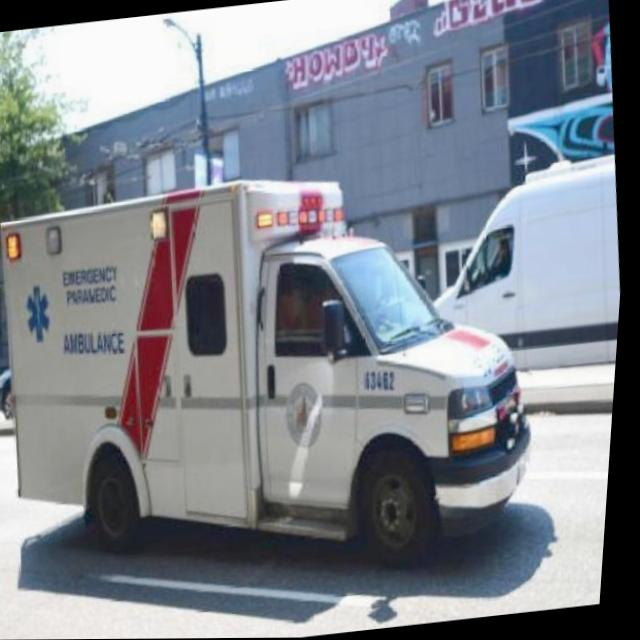emergency: (0, 147, 565, 608)
